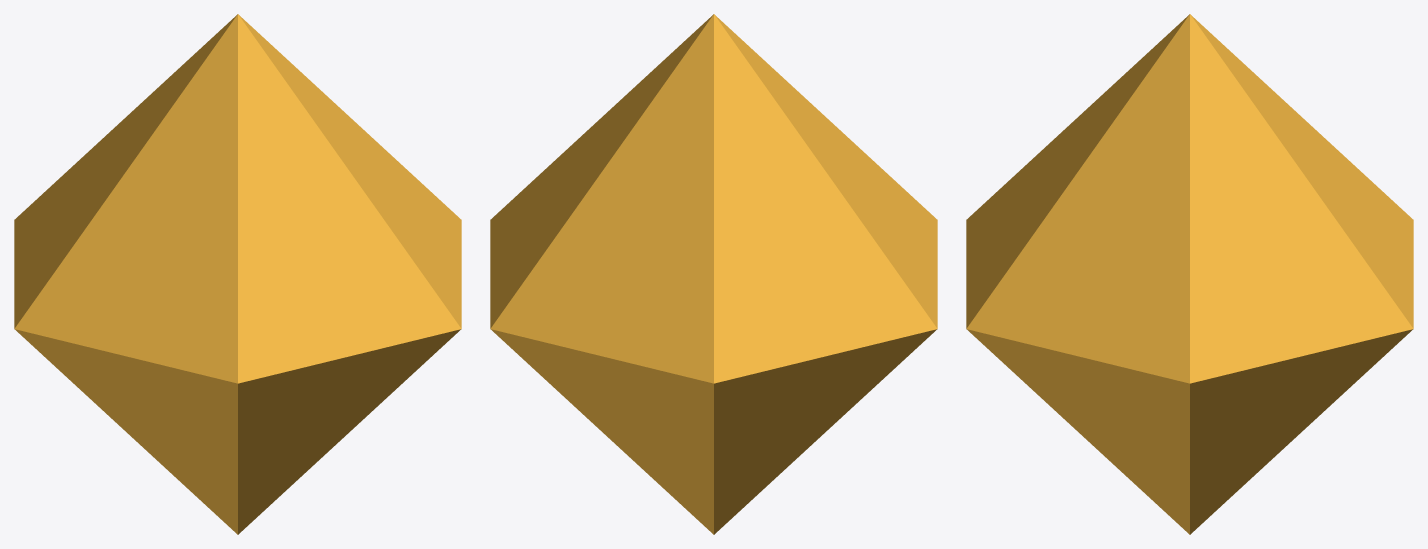
File: jewel.fbx
3 renders of one model, left to right at view 1: azimuth 30°, elevation 25°; view 2: azimuth 150°, elevation 25°; view 3: azimuth 270°, elevation 25°, orthographic.
Parts seen in each view (by area): view 1: jewel; view 2: jewel; view 3: jewel.
Part boxes in pixels (left/top/right/bottom): jewel: left=14, top=14, right=461, bottom=534; jewel: left=490, top=14, right=937, bottom=534; jewel: left=966, top=14, right=1413, bottom=534.
Size of the model in its own units: 3.33 by 3.7 by 2.88.
